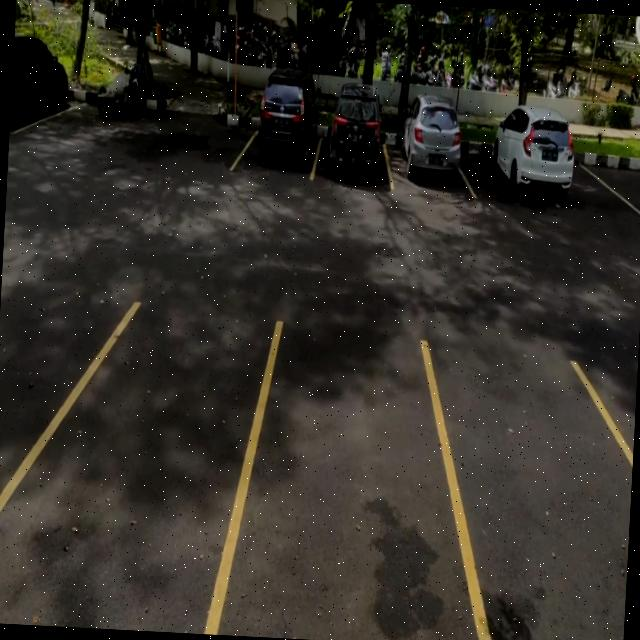empty: (16, 292, 264, 637), (226, 319, 462, 640), (407, 343, 638, 640), (601, 145, 640, 219)
occupied: (466, 117, 576, 210), (232, 72, 324, 177), (383, 96, 470, 194), (311, 86, 395, 186)
